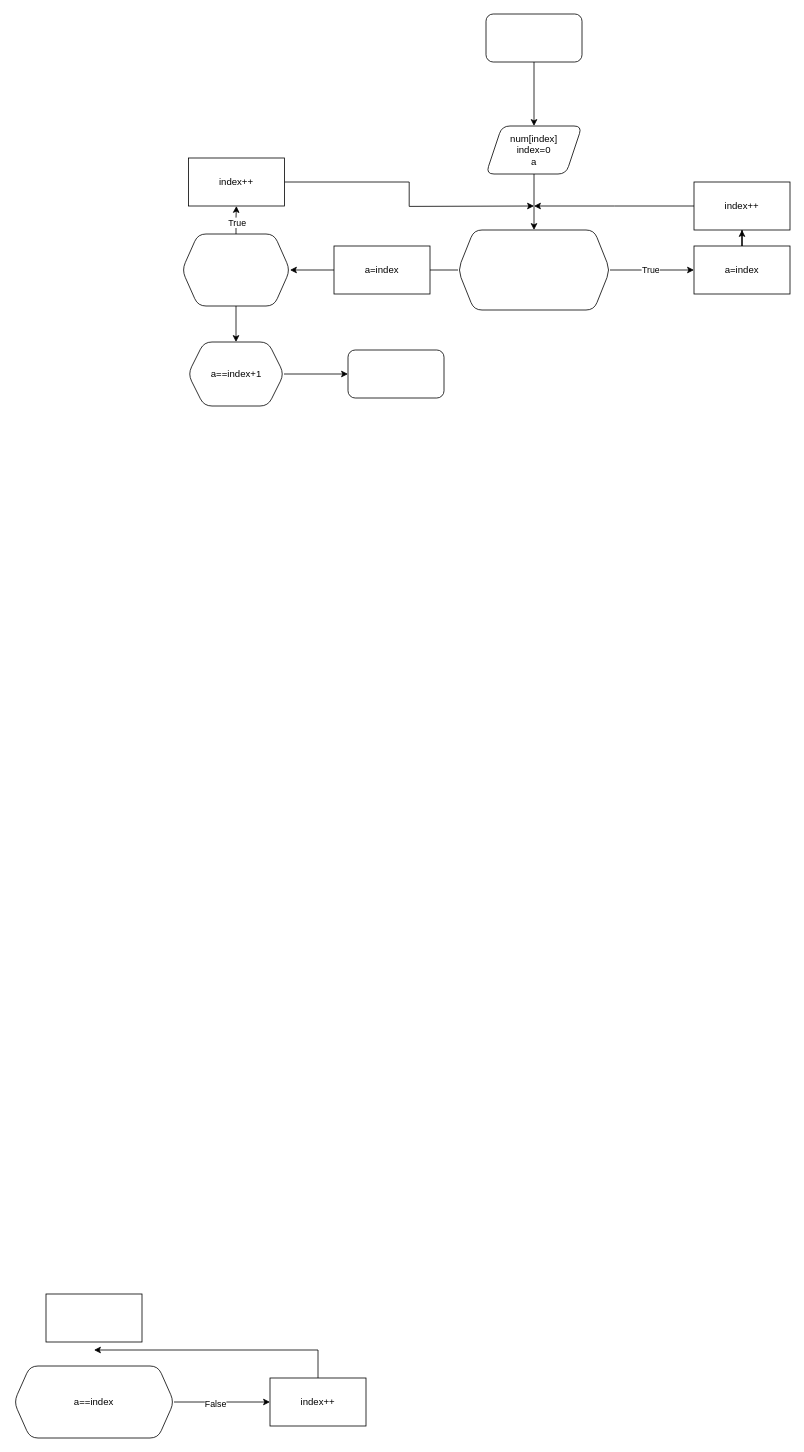
Image size: 804x1452. Some labels were removed from this diagram. The box of each missing label's shape, as (x1, y1, x2, y2) in pixels:
a>index+1: (181, 233, 290, 306)
index=0: (45, 1293, 142, 1342)
index>index+1: (457, 229, 610, 310)
Start: (485, 13, 582, 62)
